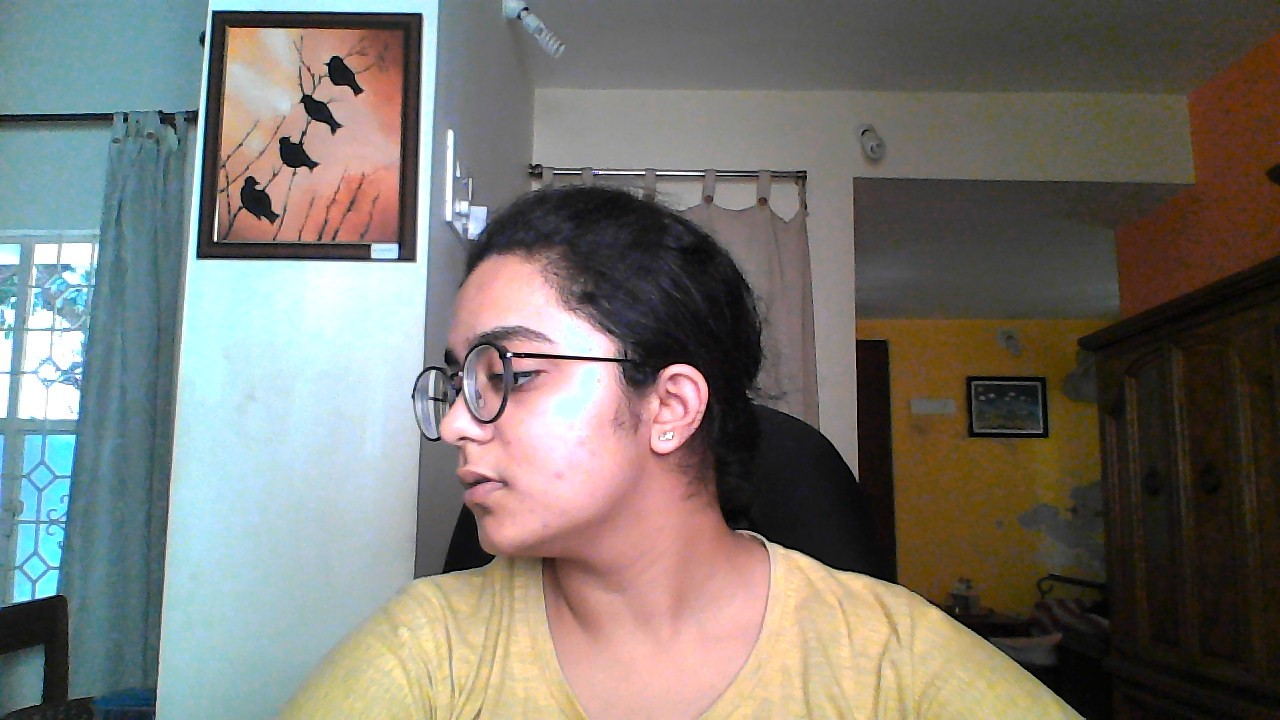person: (312, 98, 1116, 720)
